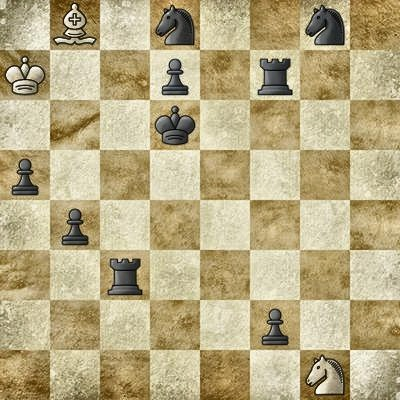black-king: (150, 100, 200, 150)
black-knight: (150, 0, 200, 50), (300, 0, 350, 50)
black-pawn: (150, 50, 200, 100), (0, 150, 50, 200), (50, 200, 100, 250), (250, 300, 300, 350)
black-rook: (250, 50, 300, 100), (100, 250, 150, 300)
white-bishop: (50, 0, 100, 50)
white-king: (0, 50, 50, 100)
white-knight: (300, 350, 350, 400)
